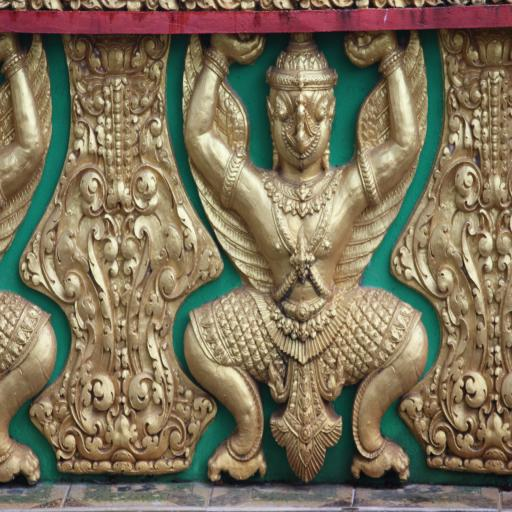la: (35, 19, 197, 479), (434, 28, 512, 468)
than: (200, 29, 418, 479), (0, 32, 57, 489)
